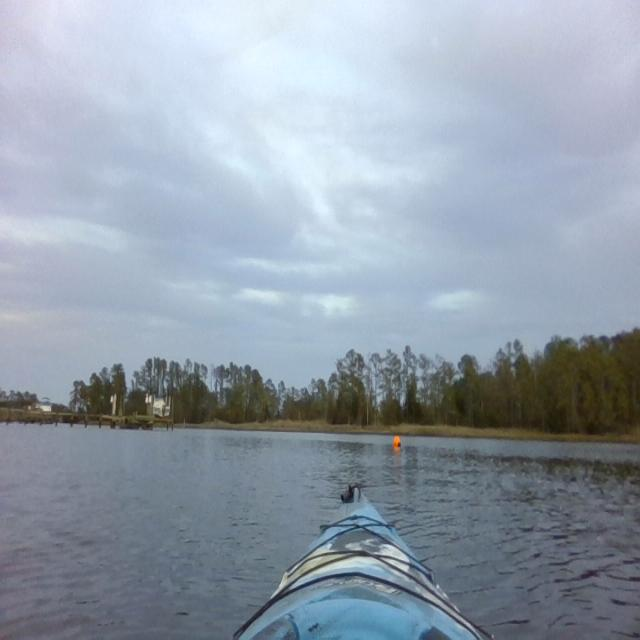Buoy: (394, 436, 402, 450)
